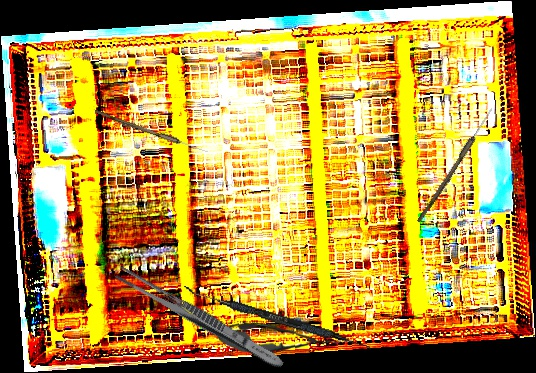Dressing Forceps: (112, 264, 288, 373)
Micro Scissor: (209, 319, 344, 359)
Spatula Surgical: (181, 286, 374, 351)
Surgical Spoon: (416, 106, 495, 225), (93, 109, 210, 155)
